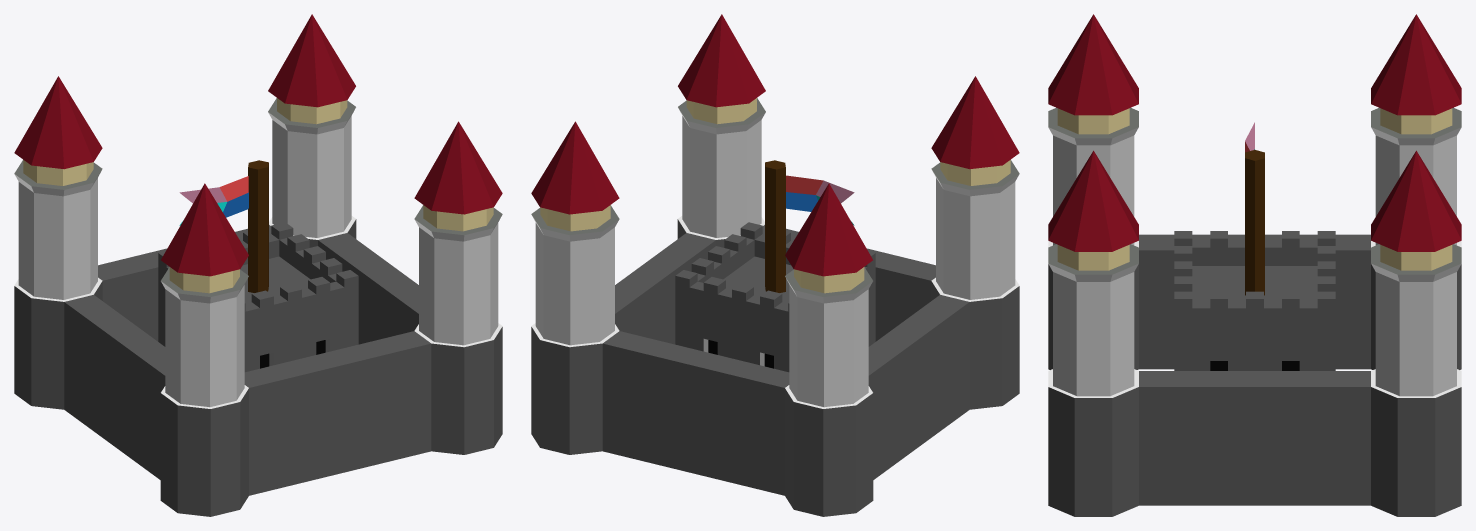
File: minicastle.fbx
3 renders of one model, left to right at view 1: azimuth 30°, elevation 25°; view 2: azimuth 150°, elevation 25°; view 3: azimuth 270°, elevation 25°, orthographic. The views are drawn at different scales.
Visible parts, largest first — view 1: cuboid, cylinder, plane; view 2: cuboid, cylinder, plane; view 3: cuboid, cylinder.
Boxes of the visible parts, x1,y1,x2,y2 form: cuboid: (14,14,502,516); cylinder: (248,160,268,292); plane: (179,176,248,225); cuboid: (531,14,1019,516); cylinder: (765,160,785,292); plane: (786,175,854,225); cuboid: (1048,14,1461,516); cylinder: (1245,150,1264,295).
Bounding box in the file's own units: 512 × 475 × 512.
1 material, 1 textured.
